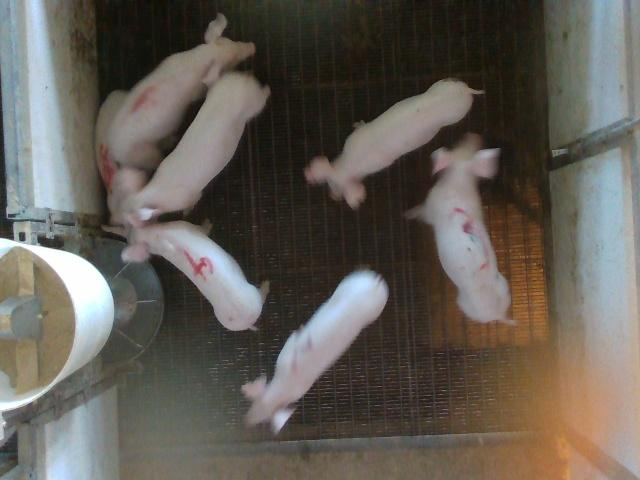pig-1: (108, 14, 255, 169)
pig-2: (241, 270, 389, 433)
pig-3: (405, 132, 515, 324)
pig-4: (122, 212, 269, 331)
pig-5: (95, 90, 149, 224)
